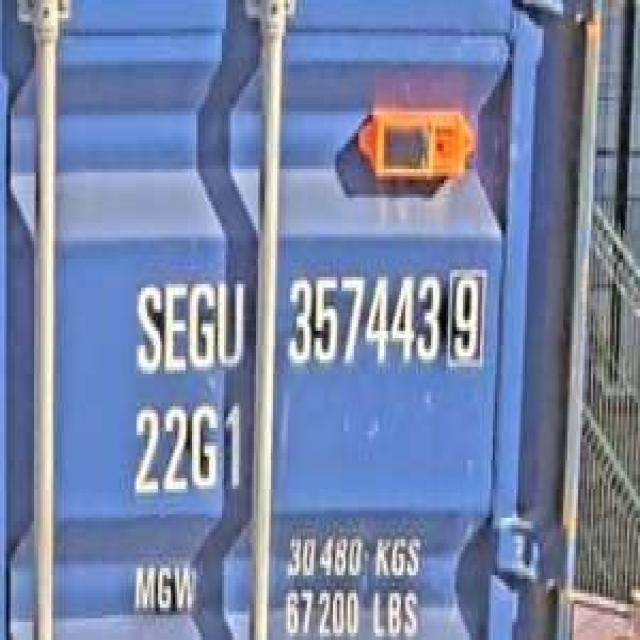dv: (444, 262, 488, 370)
owner: (126, 266, 249, 381)
serial: (282, 259, 444, 385)
size: (123, 396, 250, 504)
